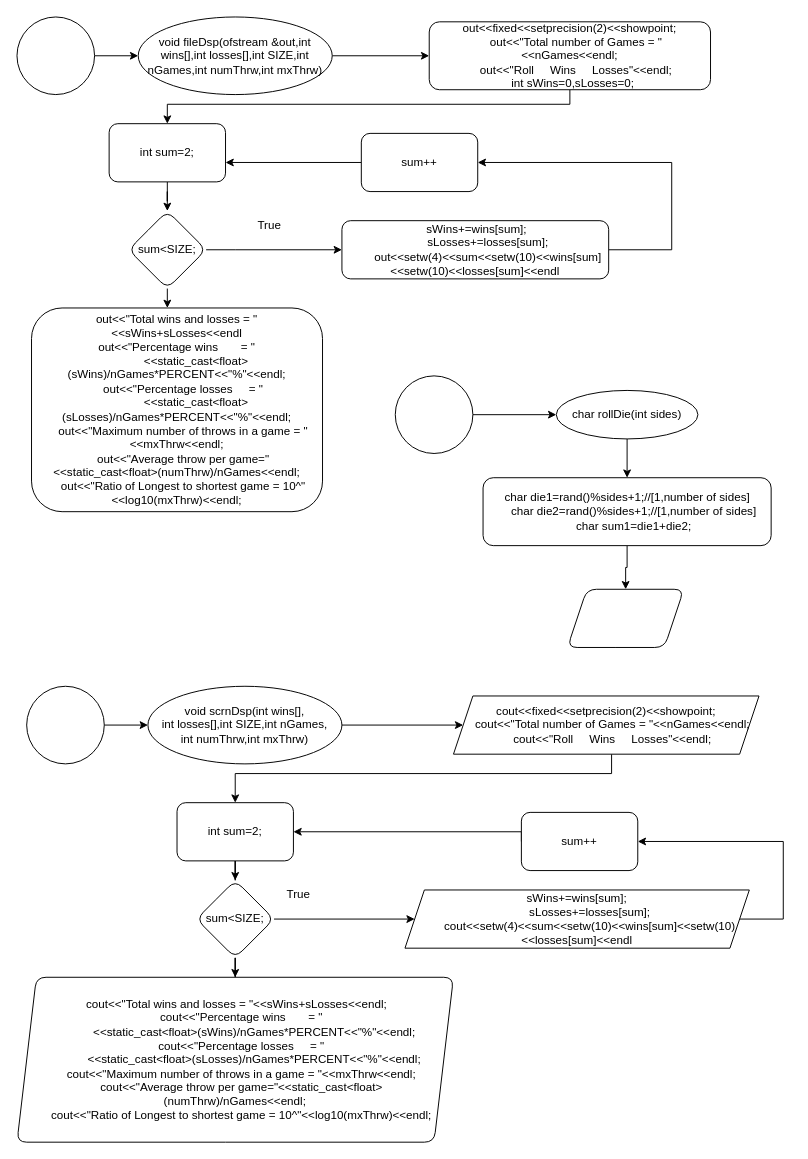
The diagram is 808 pixels wide and 1159 high, and some of its shapes have lost their labels. The shapes that lost their labels are listed below. From the top down, each one's box as (x1, y1, x2, y2) in pixels, then its label:
(16, 16, 95, 95): page 3
(394, 375, 473, 453): page 3c
(566, 588, 684, 647): return sum1;
(26, 685, 104, 764): page 3b
